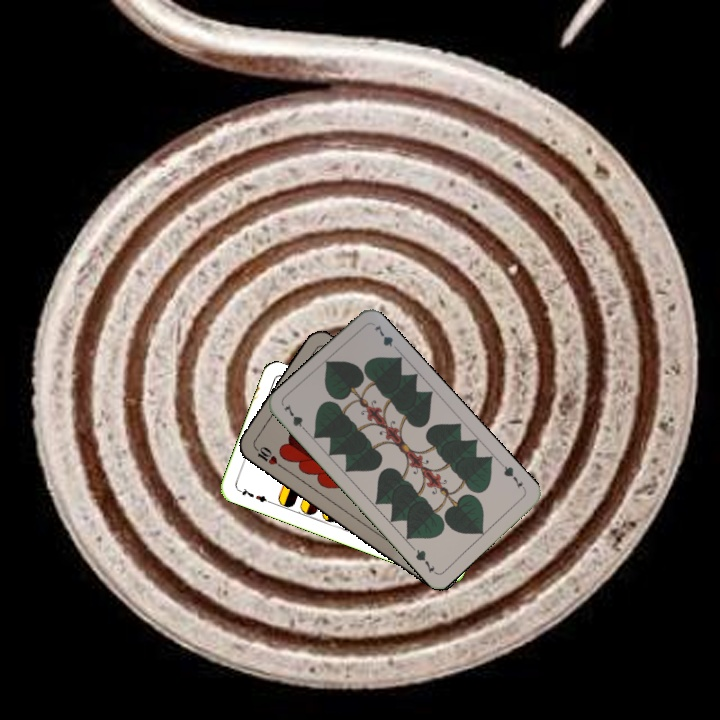E7: (234, 484, 273, 505)
G7: (280, 400, 311, 436), (498, 460, 528, 493)
H10: (250, 442, 285, 471)
